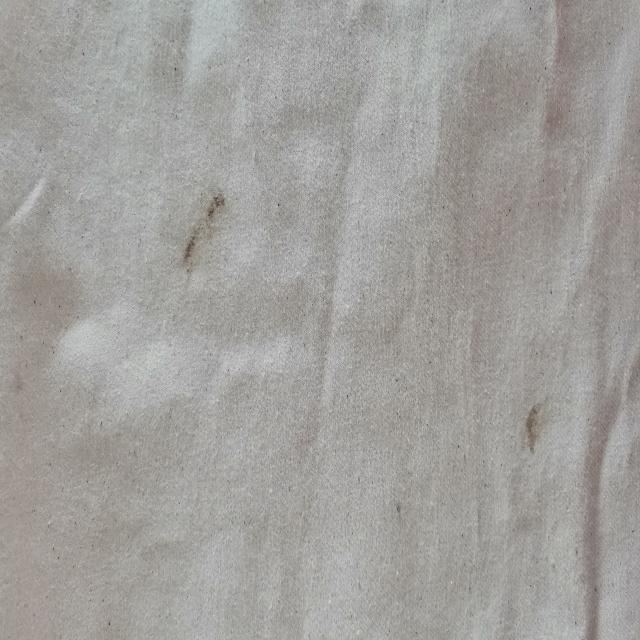taaaches: (178, 179, 230, 277), (516, 400, 550, 462)
